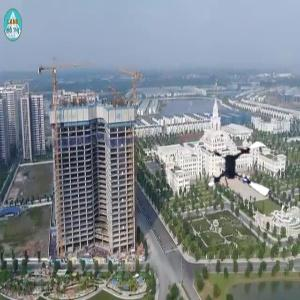drone: (206, 132, 280, 206)
